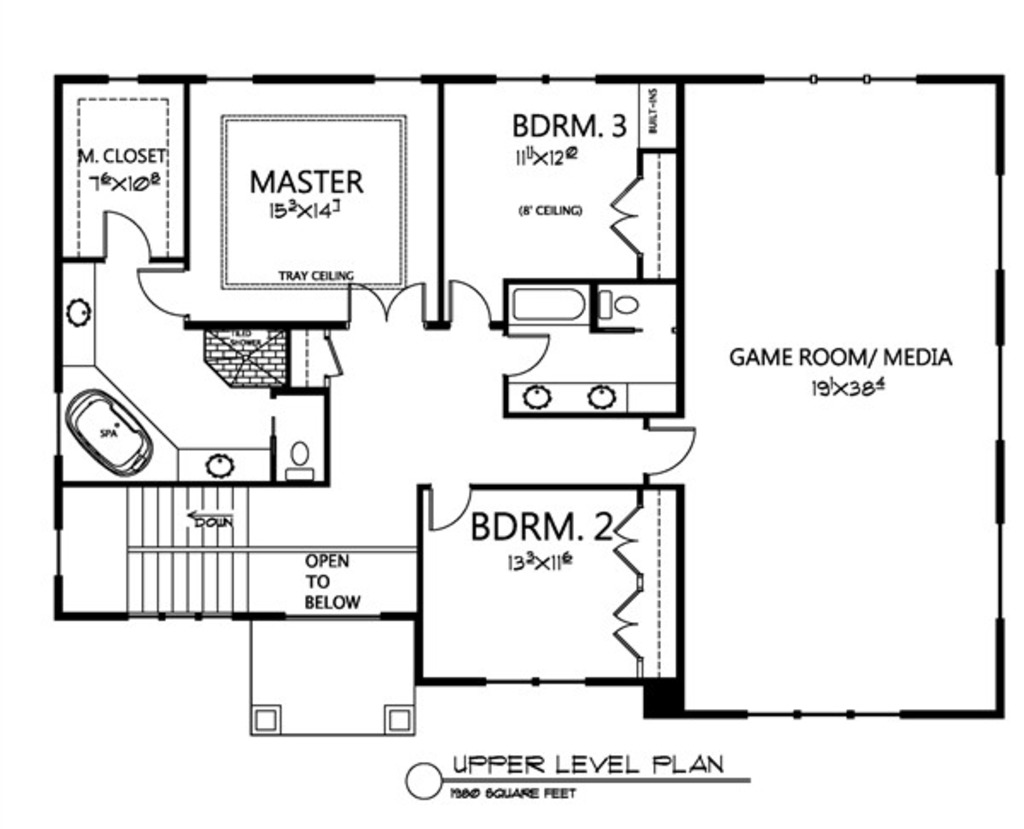door: (336, 271, 431, 330), (95, 208, 175, 270), (124, 258, 202, 321), (597, 577, 652, 659), (604, 162, 645, 258), (602, 493, 648, 578), (441, 273, 497, 334), (641, 416, 696, 473), (424, 485, 473, 536), (500, 327, 548, 378), (320, 330, 342, 386)
large_sink: (268, 428, 329, 482), (600, 275, 646, 325)
small_sink: (510, 381, 636, 414)
stairs: (60, 482, 334, 612)
tub: (60, 373, 173, 480), (515, 281, 591, 321)
window: (757, 62, 929, 93), (490, 66, 600, 91), (991, 339, 1015, 441), (741, 705, 900, 718), (991, 176, 1011, 276), (54, 527, 69, 576)
